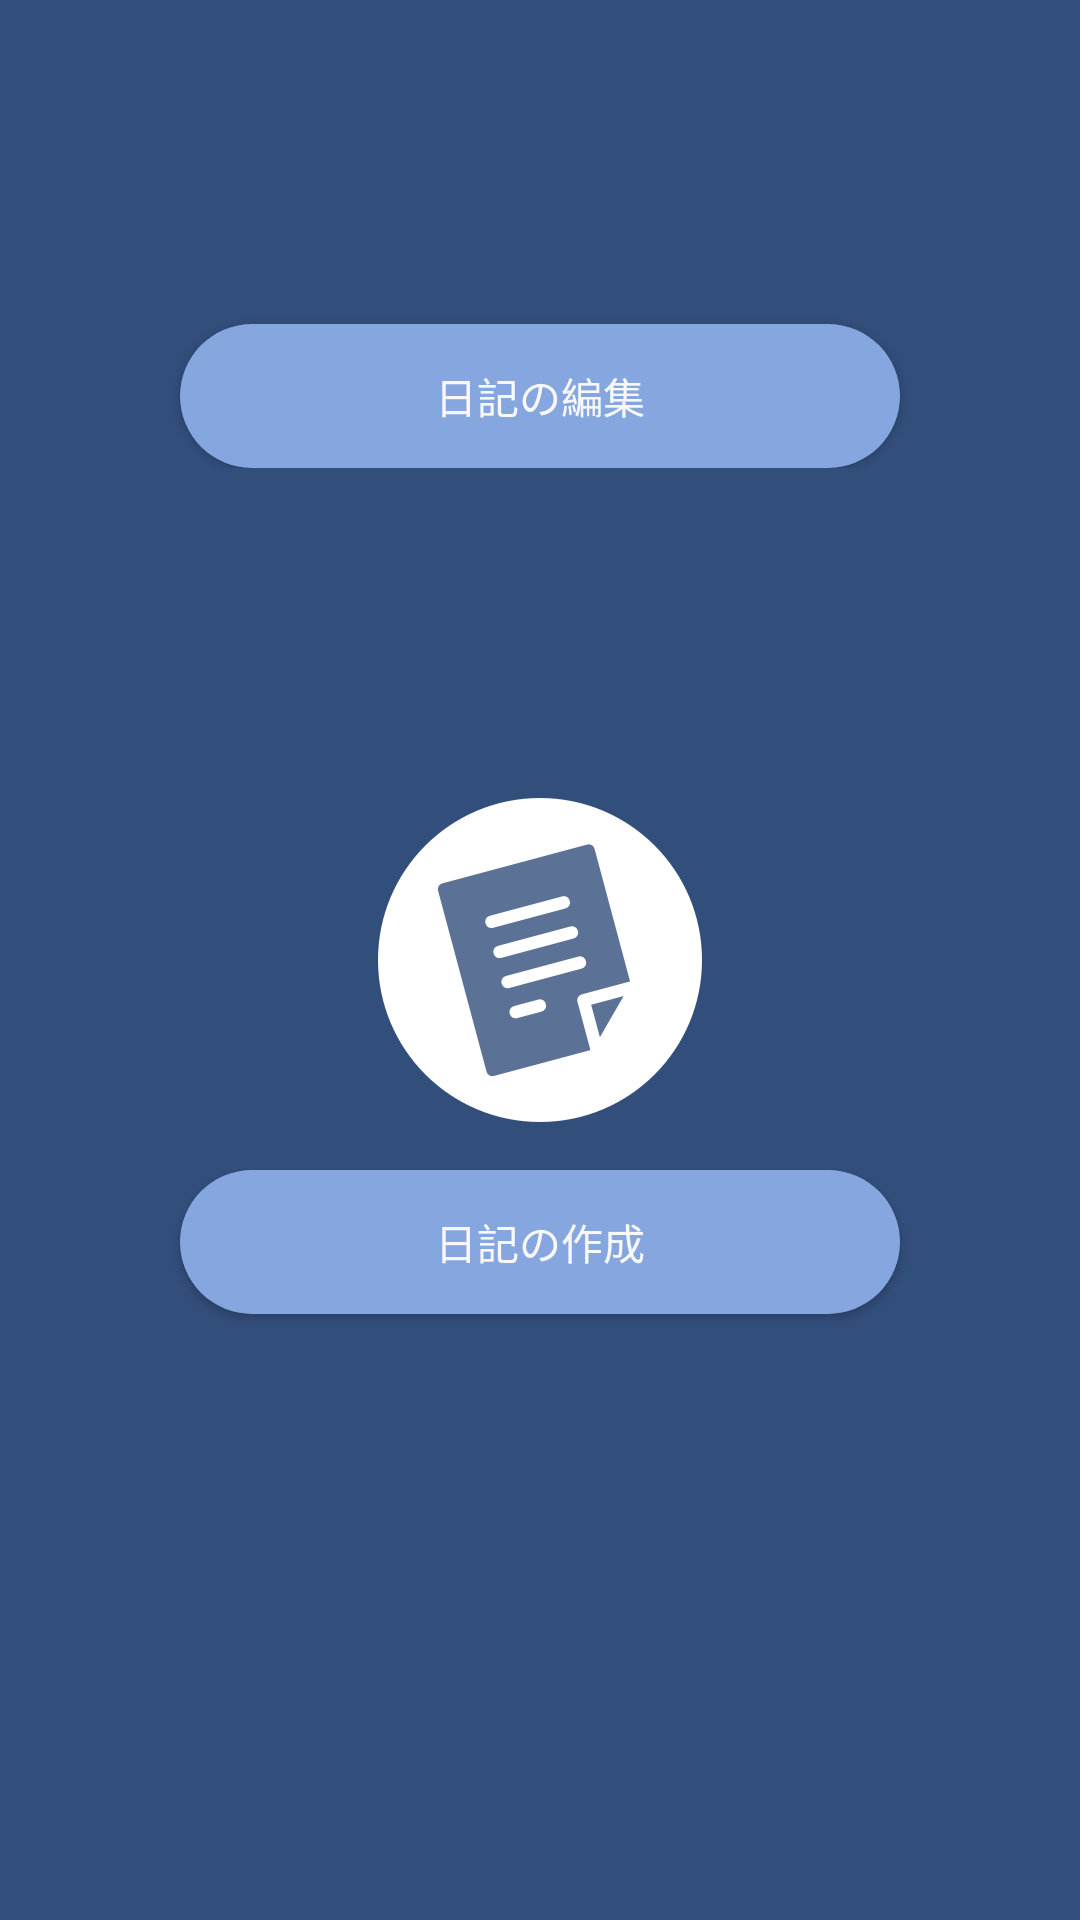

Where icons sit on this 1080px x 1920px app screen, as bbox(x1, y1, x2, y2):
report empty: bbox(378, 798, 702, 1122)
